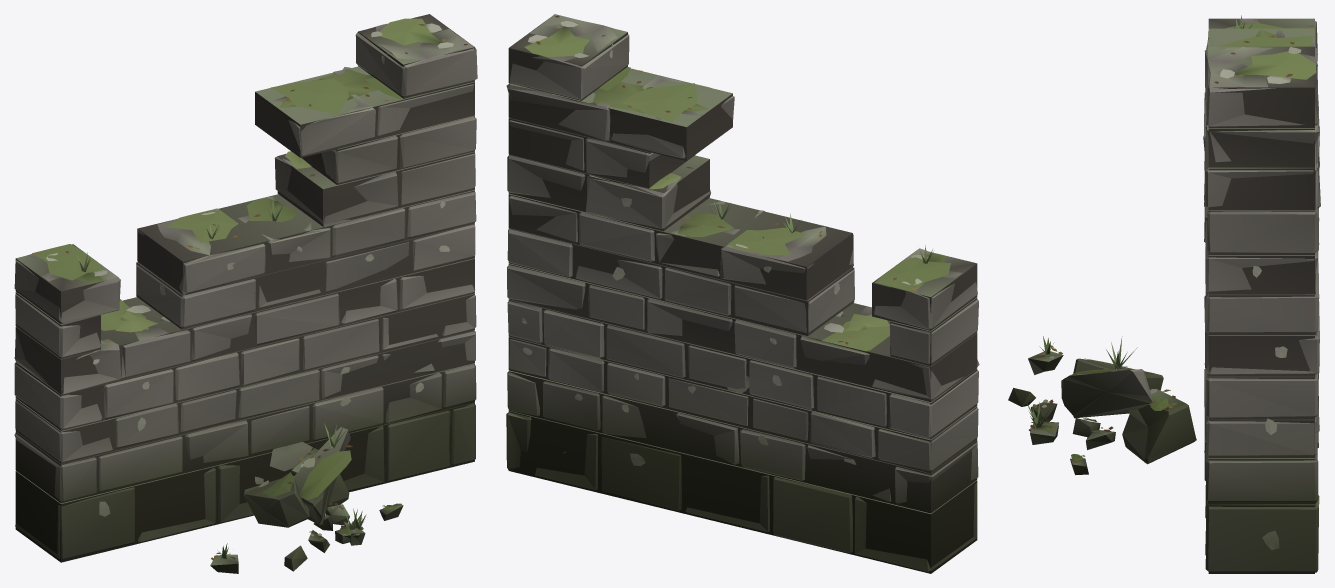
The model's file is vault_wall_c.glb.
The picture shows the model from 3 angles, left to right: view 1: azimuth 30°, elevation 25°; view 2: azimuth 150°, elevation 25°; view 3: azimuth 270°, elevation 25°; orthographic projection. The views are drawn at different scales.
Parts seen in each view (by area): view 1: vault_wall_c; view 2: vault_wall_c; view 3: vault_wall_c.
Boxes of the visible parts, x1,y1,x2,y2 form: vault_wall_c: [14, 14, 477, 573]; vault_wall_c: [506, 14, 979, 573]; vault_wall_c: [1008, 15, 1320, 573].
Size of what is drawn, in the model's own units: 6.01 by 5.72 by 3.32.
